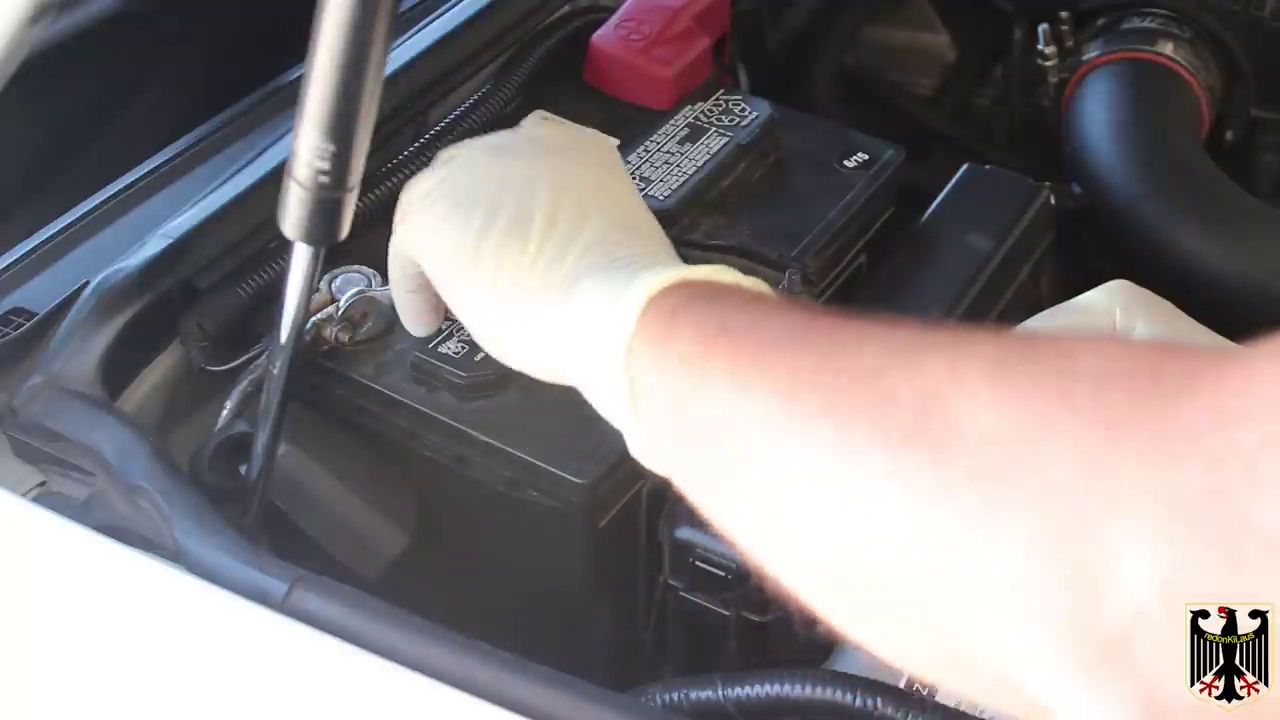battery: (296, 24, 902, 565)
neg_connected: (258, 221, 406, 376)
neg_touched: (297, 195, 514, 386)
pos_connected: (565, 8, 764, 123)
